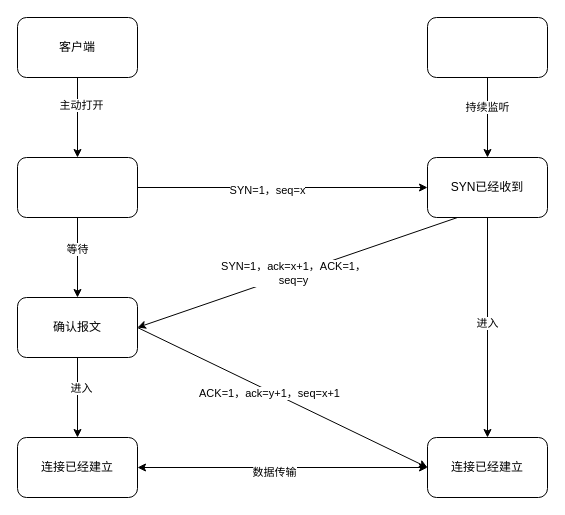
This 565x515 diagram has some shape labels left out. Each missing label, with the centre of its shape:
打开连接: point 77,187
服务端: point 487,47
